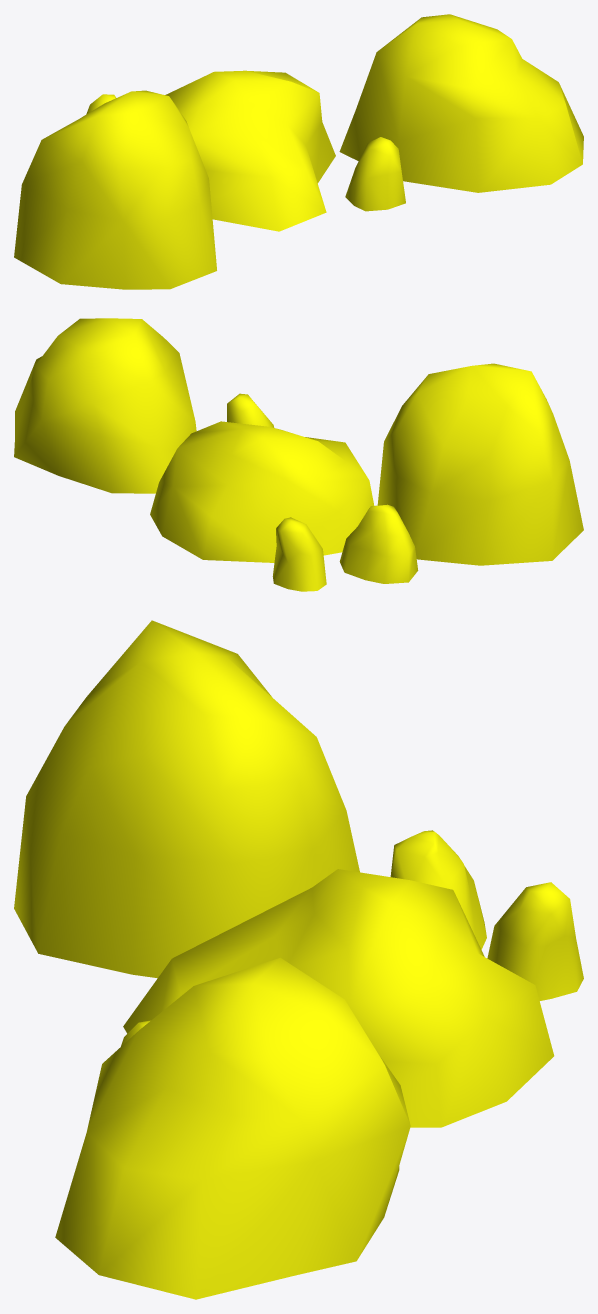
Rendered from shrine_rock_05.glb.
The picture shows the model from 3 angles, top to bottom: view 1: azimuth 30°, elevation 25°; view 2: azimuth 150°, elevation 25°; view 3: azimuth 270°, elevation 25°; orthographic projection. The views are drawn at different scales.
Visible parts, largest first — view 1: Shrine_rock_05; view 2: Shrine_rock_05; view 3: Shrine_rock_05.
Boxes of the visible parts, box(x1,y1,x2,y2) form: Shrine_rock_05: box(14, 14, 583, 289); Shrine_rock_05: box(14, 318, 583, 591); Shrine_rock_05: box(14, 620, 583, 1299).
Bounding box in the file's own units: 6.95 × 1.87 × 3.62.
4 materials, 4 textured.
